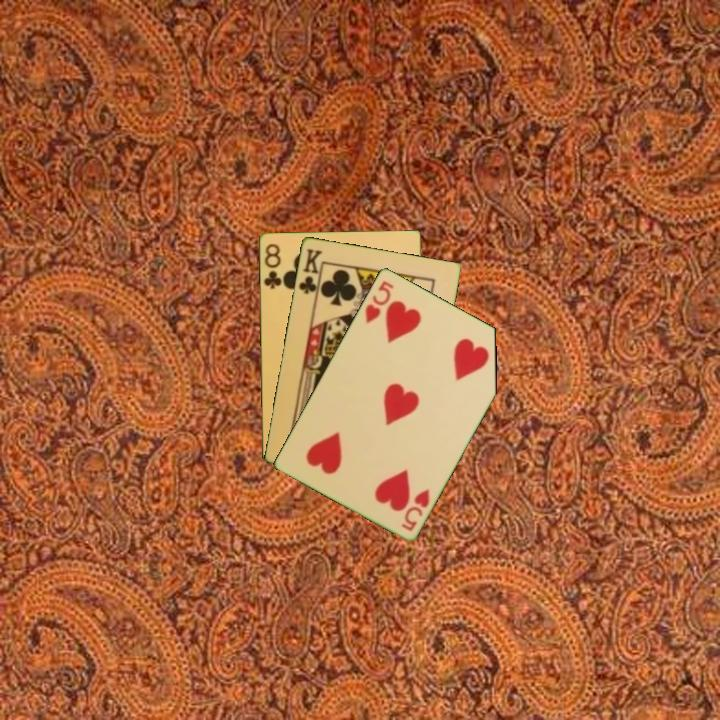5h: (361, 277, 397, 326), (398, 485, 432, 534)
8c: (260, 240, 284, 292)
Kc: (295, 245, 325, 301)
